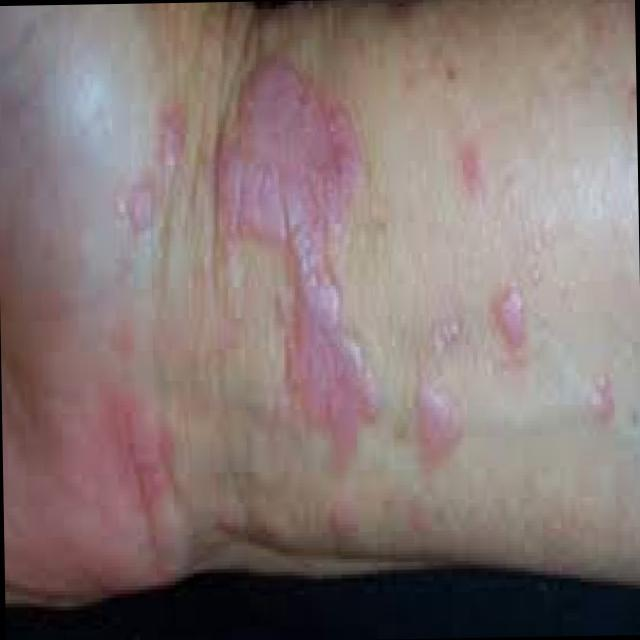Eczema: (75, 64, 528, 530)
